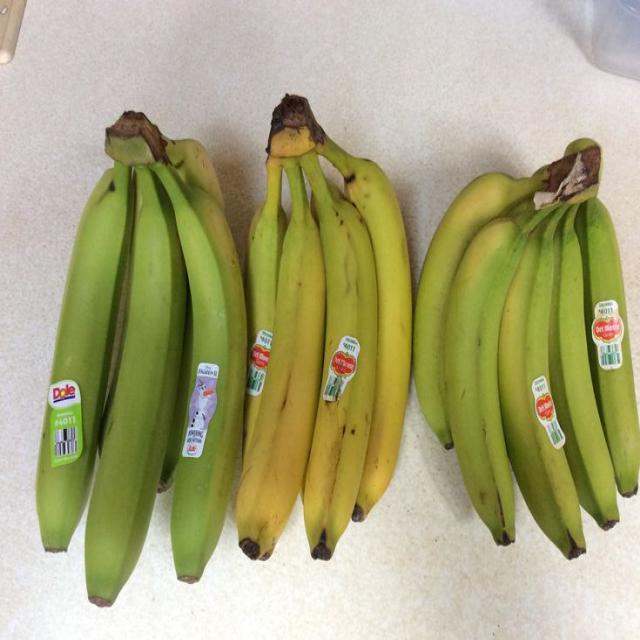unpeal banana: (269, 95, 411, 521), (413, 142, 599, 447), (85, 168, 186, 606), (153, 164, 246, 582), (36, 163, 133, 551), (443, 199, 549, 545), (413, 172, 545, 448), (317, 135, 411, 521), (236, 161, 325, 559), (301, 152, 377, 559), (499, 208, 585, 558), (549, 206, 619, 529), (576, 199, 639, 496), (243, 158, 287, 453), (158, 291, 193, 493), (159, 297, 192, 491)
